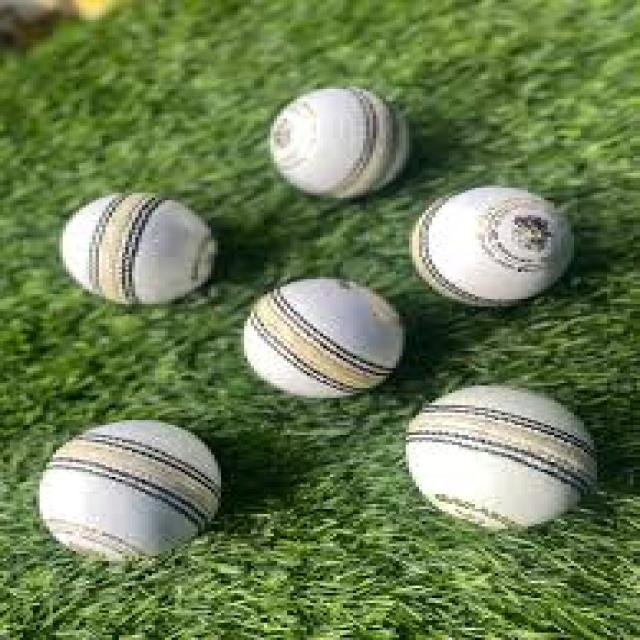ball: (33, 415, 234, 559), (396, 383, 597, 526), (234, 274, 409, 410), (409, 183, 584, 311), (59, 190, 224, 304), (260, 84, 416, 203)
